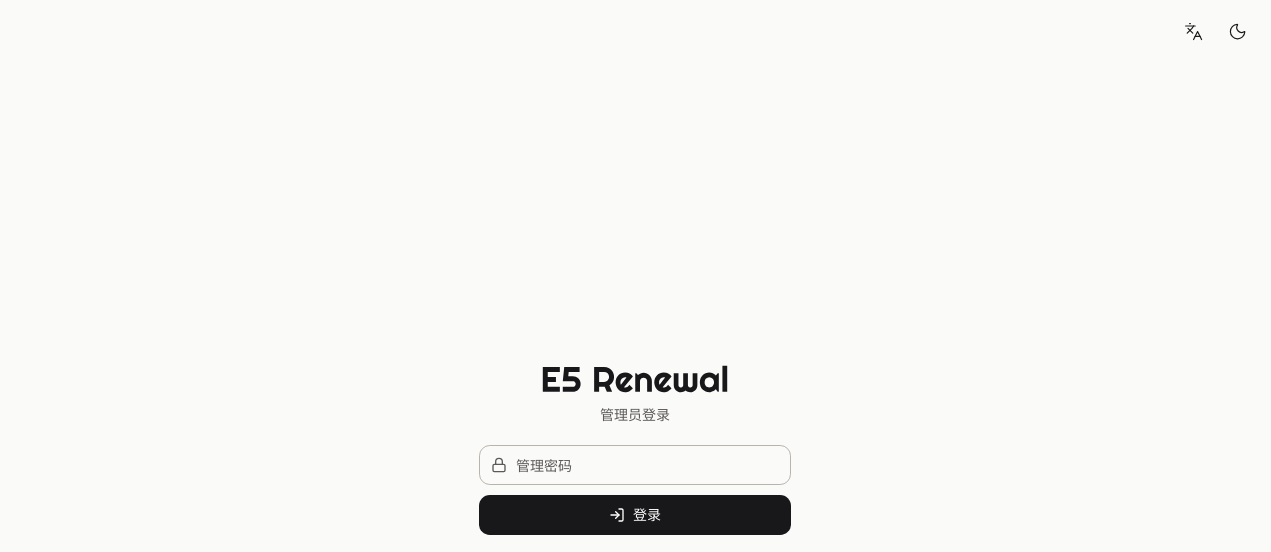
Test: management interface › signs in and switches between Chinese and English
Expected: the heading "管理员登录" is shown, x1=600 y1=406 x2=670 y2=423
Type "an-administrator-password" into the password field labelled "管理密码".
click(635, 465); type("an-administrator-password")  # box x1=479 y1=445 x2=791 y2=485
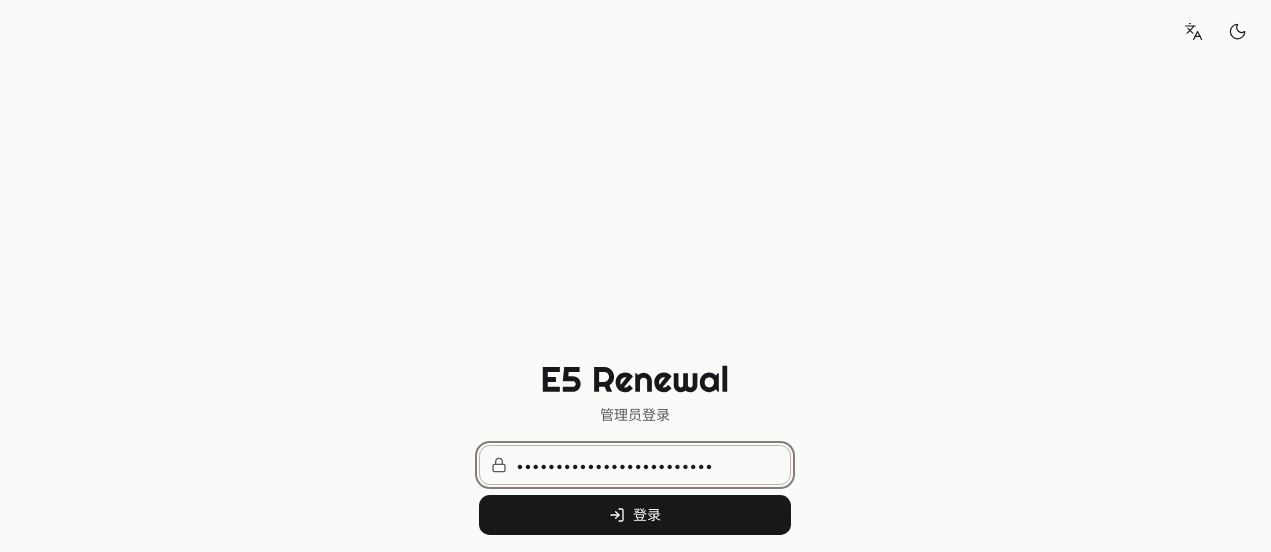
Click the button "登录".
click(635, 515)  # box x1=479 y1=495 x2=791 y2=535
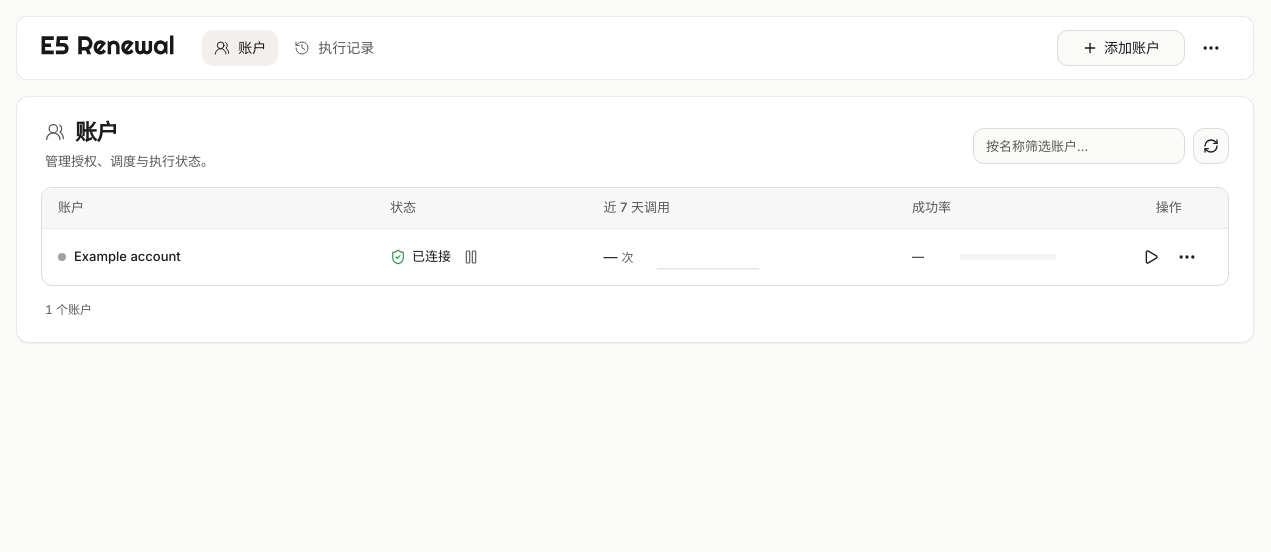
Expected: the heading "账户" is shown, x1=45 y1=119 x2=118 y2=145
Expected: the text "Example account" is shown, x1=74 y1=247 x2=181 y2=266
Click the button named "导航菜单".
click(1211, 48)  # box x1=1193 y1=30 x2=1229 y2=66
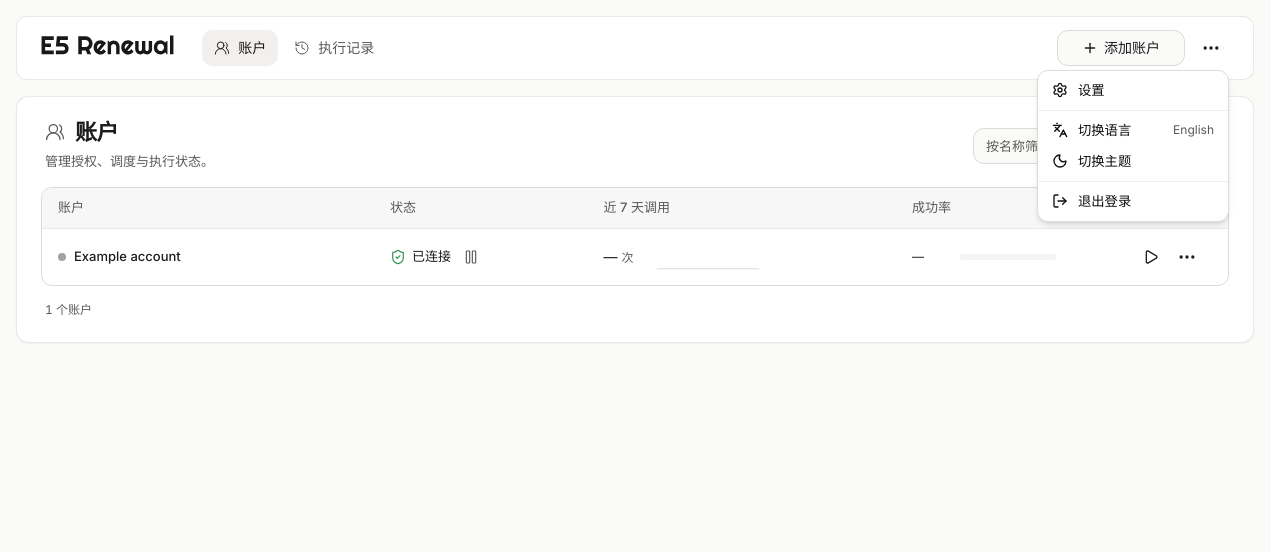
Click the menu item "切换语言 English".
click(1133, 130)  # box x1=1052 y1=122 x2=1214 y2=138
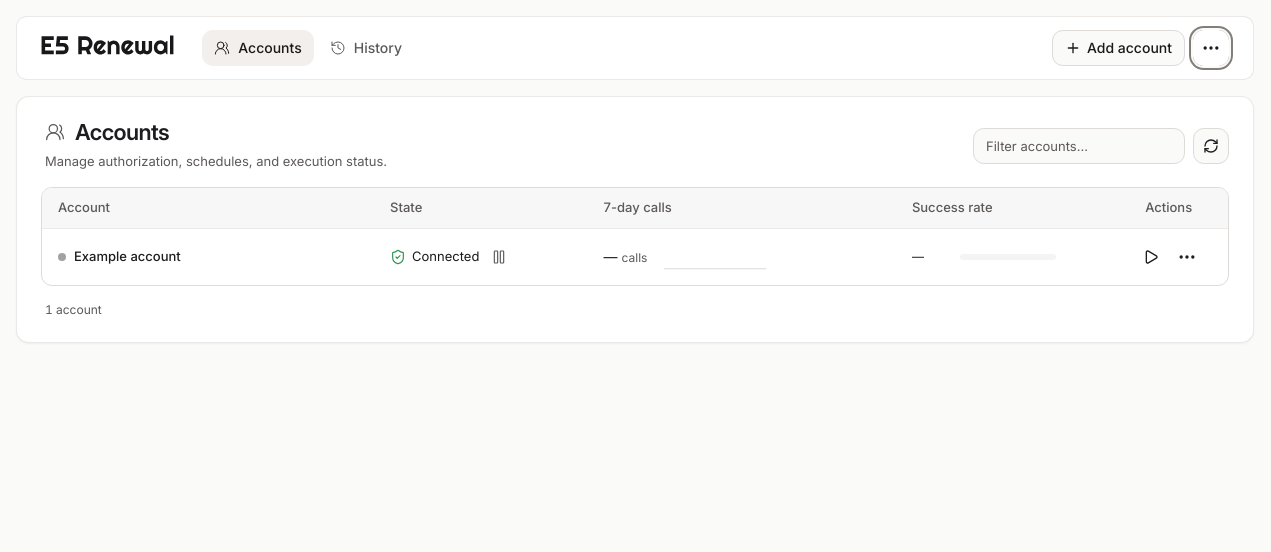
Expected: the heading "Accounts" is shown, x1=45 y1=119 x2=169 y2=145
